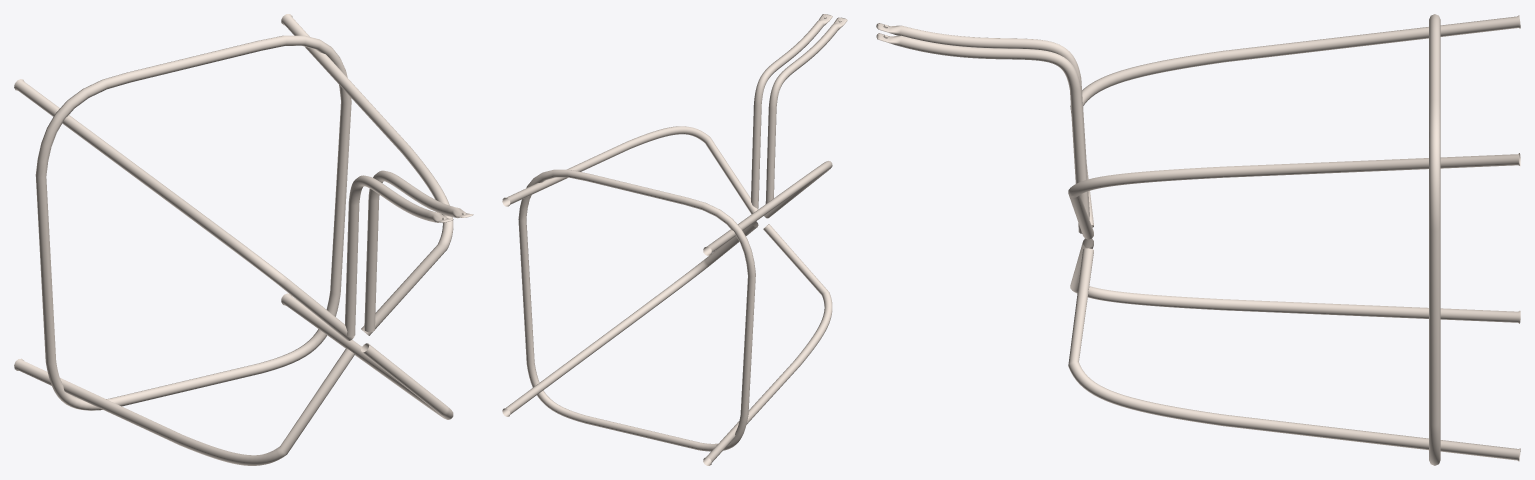
File: ChairmeshChair_2_0_GeomSubset_0.obj
The picture shows the model from 3 angles, left to right: view 1: azimuth 30°, elevation 25°; view 2: azimuth 150°, elevation 25°; view 3: azimuth 270°, elevation 25°; orthographic projection. The views are drawn at different scales.
Visible parts, largest first — view 1: ChairmeshChair_2_0_GeomSubset_0; view 2: ChairmeshChair_2_0_GeomSubset_0; view 3: ChairmeshChair_2_0_GeomSubset_0.
Part boxes in pixels (x1=…): ChairmeshChair_2_0_GeomSubset_0: x1=14, y1=14, x2=473, y2=465; ChairmeshChair_2_0_GeomSubset_0: x1=502, y1=14, x2=847, y2=465; ChairmeshChair_2_0_GeomSubset_0: x1=876, y1=14, x2=1520, y2=465.
Bounding box in the file's own units: 0.4156 × 0.461 × 0.6986.
Materials: 1 (1 with a texture image).
